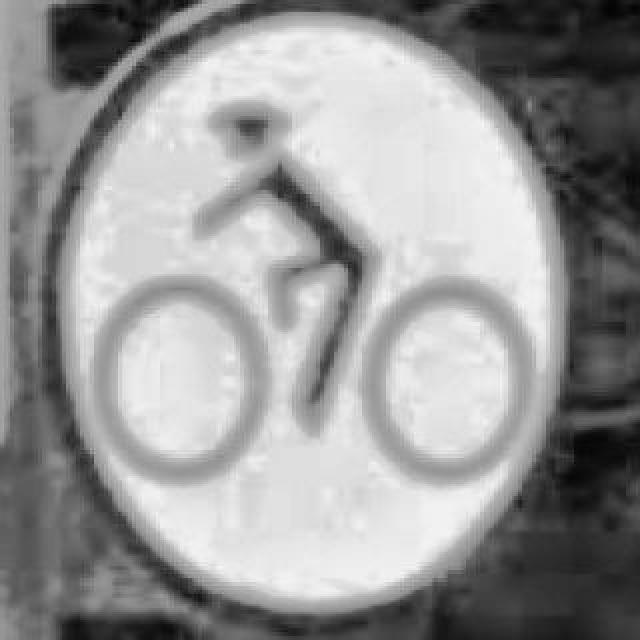bike lane: (38, 0, 574, 620)
